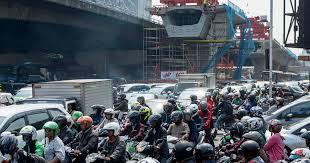helmet: (237, 140, 260, 163), (172, 140, 194, 163), (194, 142, 216, 163), (0, 134, 18, 158), (19, 125, 38, 144), (42, 121, 60, 139), (229, 121, 246, 138), (103, 122, 121, 138), (52, 114, 68, 131), (76, 116, 93, 131), (148, 114, 163, 130), (268, 119, 283, 134), (128, 110, 141, 127), (249, 105, 263, 119), (170, 110, 184, 124), (103, 108, 115, 120), (198, 100, 208, 112), (117, 92, 127, 101)
